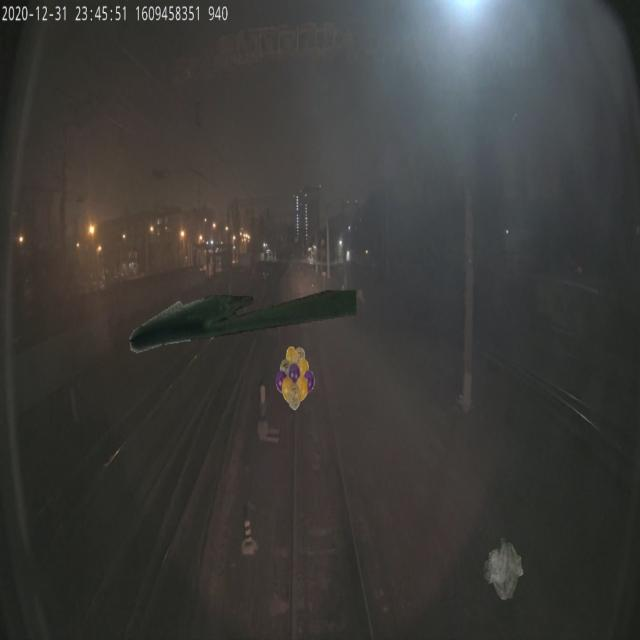balloon: (276, 346, 314, 410)
floating object: (130, 290, 356, 354)
plastic bag: (483, 536, 524, 600)
